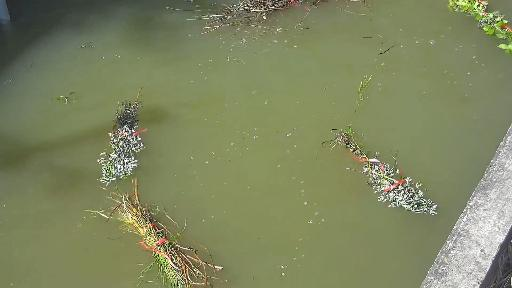leaf: (47, 88, 83, 107)
twig: (333, 76, 448, 212), (101, 185, 243, 288), (126, 0, 367, 44), (89, 78, 157, 200), (453, 0, 512, 41)
